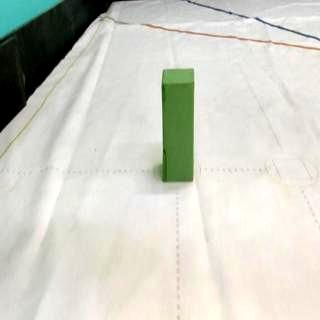greenbox: (162, 67, 196, 182)
